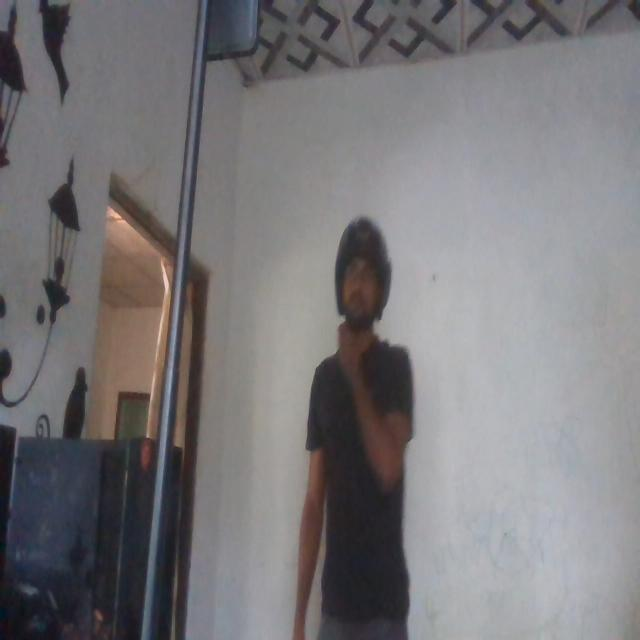Helmet_Wearer: (326, 217, 402, 355)
Person: (306, 210, 412, 640)
